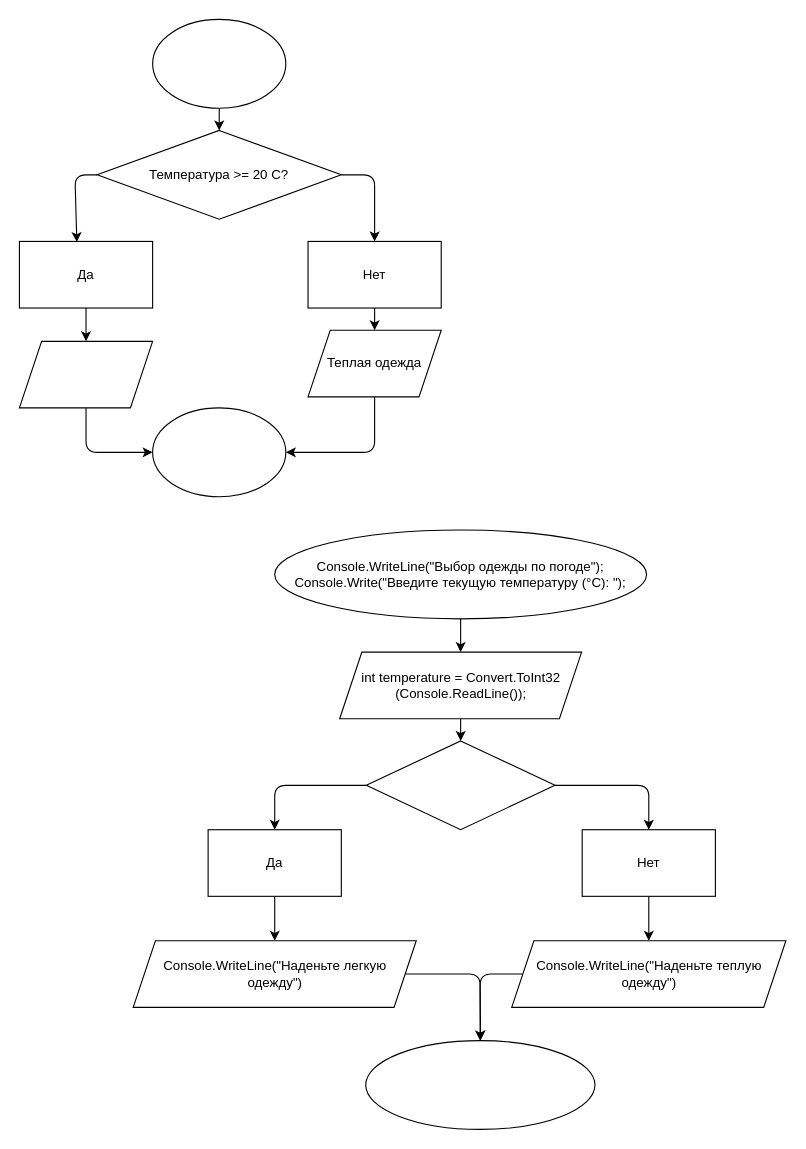
Image size: 806x1149. Some labels were removed from this diagram. Here are the shapes that lost their labels. From the top down, the centre of each, then its label:
(219,63): Начало
(85,374): Легкая одежда
(219,452): Конец
(460,785): if (temparature >= 20)
(480,1084): Console.WriteLine("Хорошего дня!")
